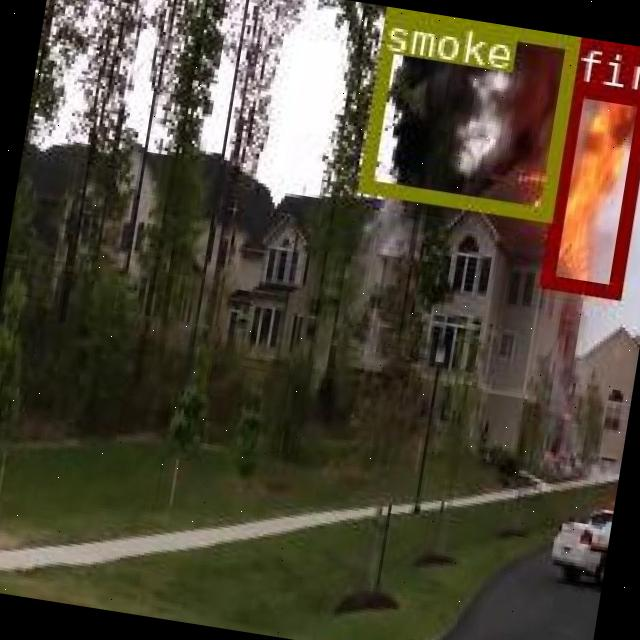fire: (537, 79, 640, 296)
smoke: (357, 7, 578, 220)
